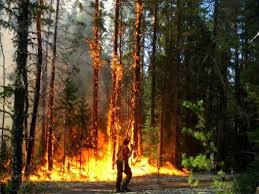fire: (72, 11, 168, 176), (86, 24, 102, 66)
